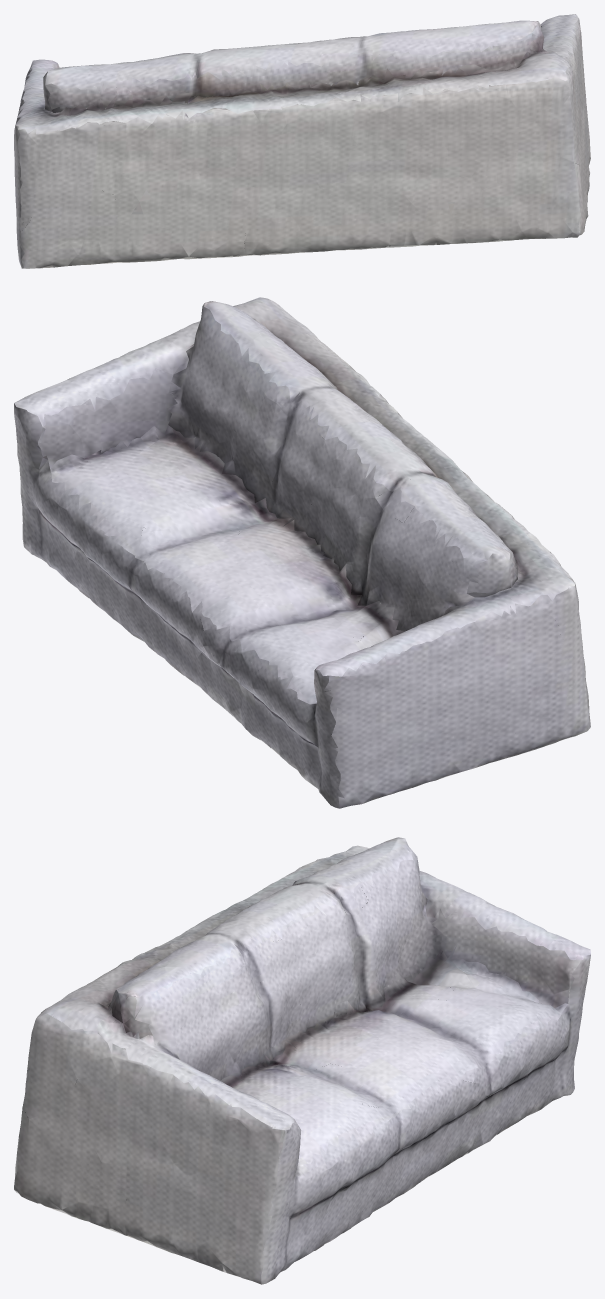
3 renders of one model, top to bottom at view 1: azimuth 30°, elevation 25°; view 2: azimuth 150°, elevation 25°; view 3: azimuth 270°, elevation 25°, orthographic. The views are drawn at different scales.
Visible parts, largest first — view 1: world; view 2: world; view 3: world.
Boxes of the visible parts, x1,y1,x2,y2 form: world: (14, 14, 590, 268); world: (14, 297, 590, 808); world: (14, 837, 590, 1284).
Size of the model in its own units: 0.9736 by 0.4168 by 0.7907.
1 material, 1 textured.
